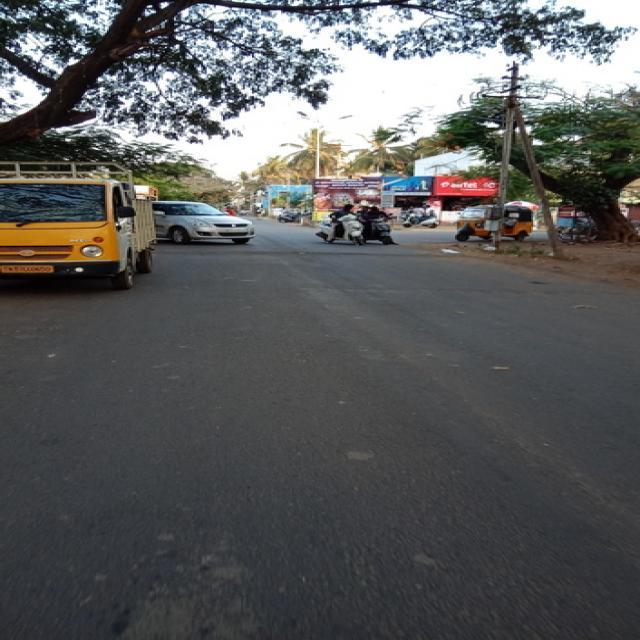NonMarked Bump: (167, 238, 455, 265)
